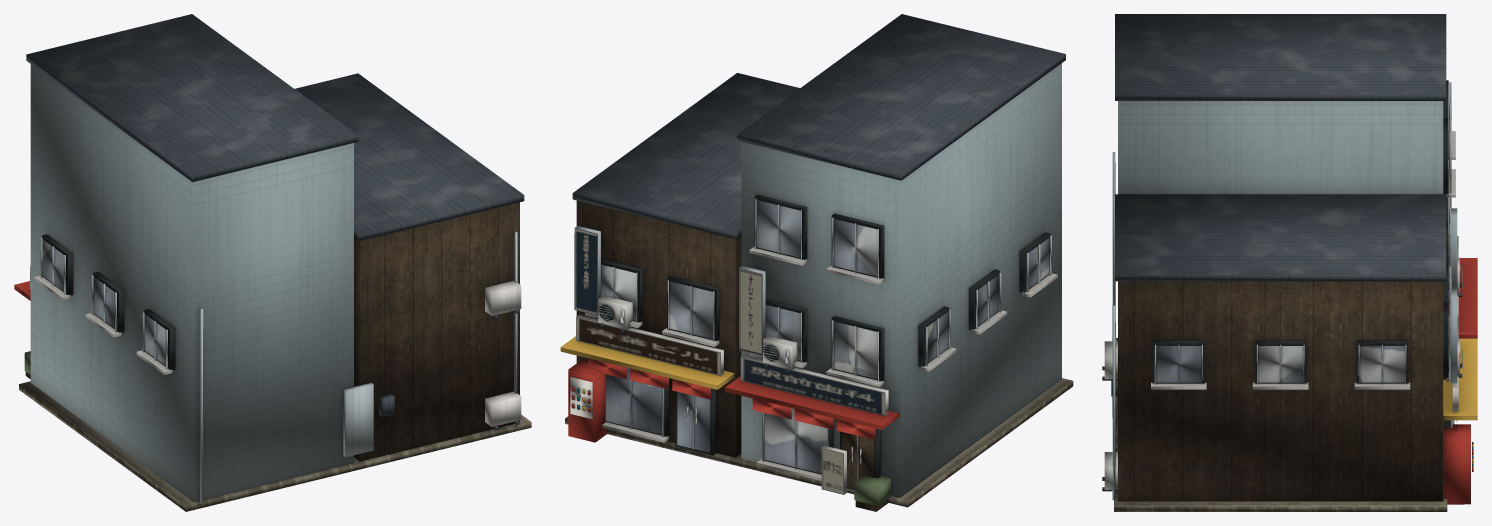
Rendered from shop_010.lod1.obj.
The picture shows the model from 3 angles, left to right: view 1: azimuth 30°, elevation 25°; view 2: azimuth 150°, elevation 25°; view 3: azimuth 270°, elevation 25°; orthographic projection.
Visible parts, largest first — view 1: shop_010; view 2: shop_010; view 3: shop_010.
Part boxes in pixels (x1,y1,x2,y2): shop_010: (14, 14, 531, 511); shop_010: (560, 14, 1073, 511); shop_010: (1102, 14, 1477, 511).
Size of the model in its own units: 9.96 by 9.04 by 9.23.
1 material, 1 textured.
